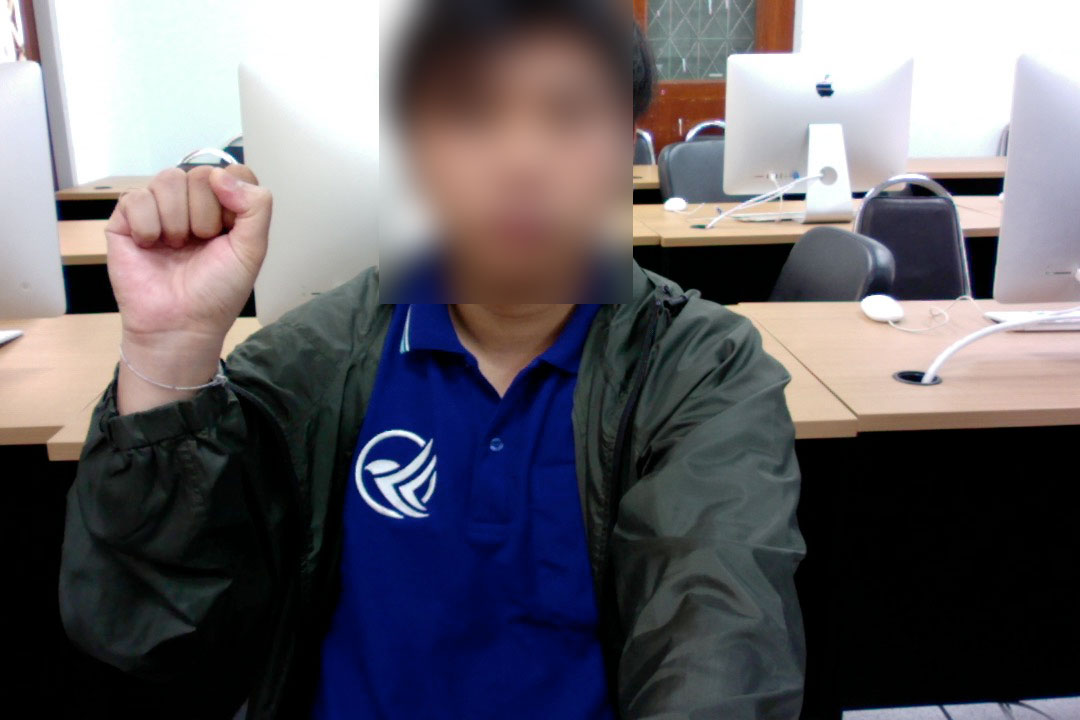sor: (95, 159, 278, 365)
